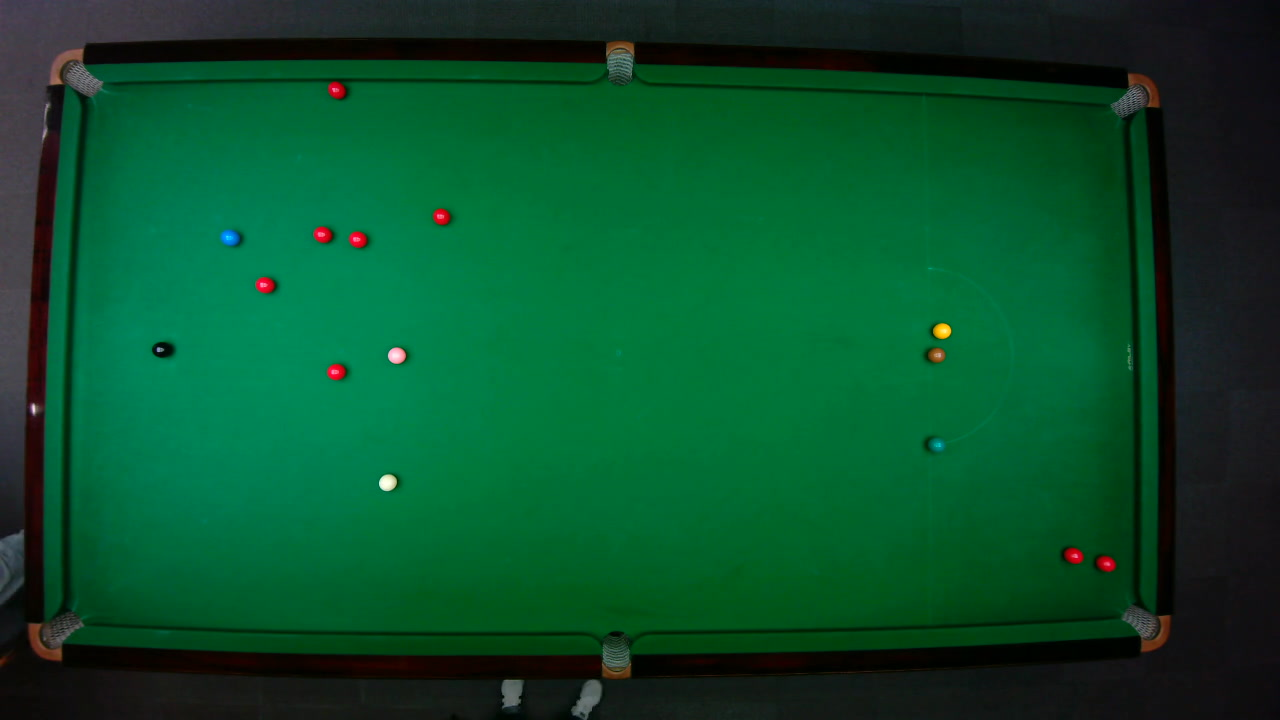bag: (26, 608, 85, 660), (47, 48, 103, 97), (1119, 602, 1171, 651), (1108, 72, 1160, 119), (601, 629, 630, 679), (605, 39, 633, 86)
black: (150, 340, 172, 358)
blue: (219, 228, 240, 246)
brown: (926, 346, 945, 362)
green: (925, 435, 945, 452)
pink: (386, 345, 407, 364)
red: (1094, 553, 1117, 572), (1061, 545, 1084, 564), (326, 80, 346, 99), (431, 206, 451, 225), (325, 362, 346, 380), (254, 275, 275, 293), (347, 229, 367, 247), (312, 225, 332, 243)
white: (377, 472, 397, 492)
yellow: (931, 321, 952, 339)
zone: (926, 265, 1013, 445)
